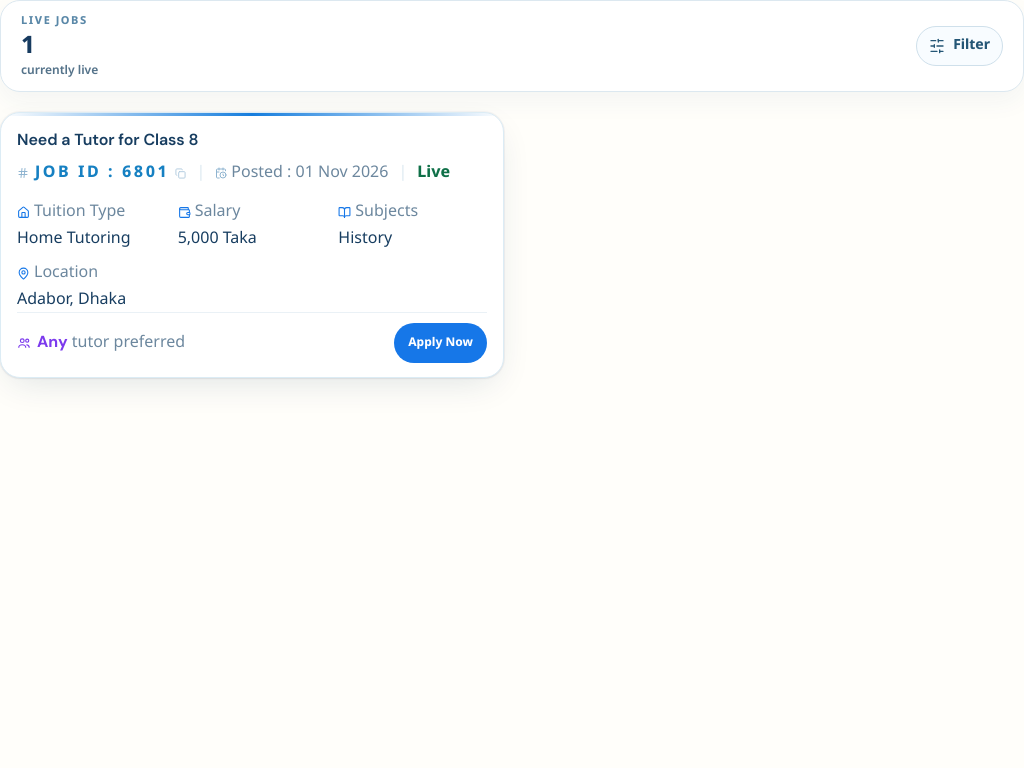
it: sharing a tuition from the Job Board › keeps share button off the primary job card, and exposes it in the details dialog
# Opening details displays the Share button
Click the button with aria-label "Job ID 6801".
click(252, 245)  # box top-left (0, 112), bottom-right (504, 378)
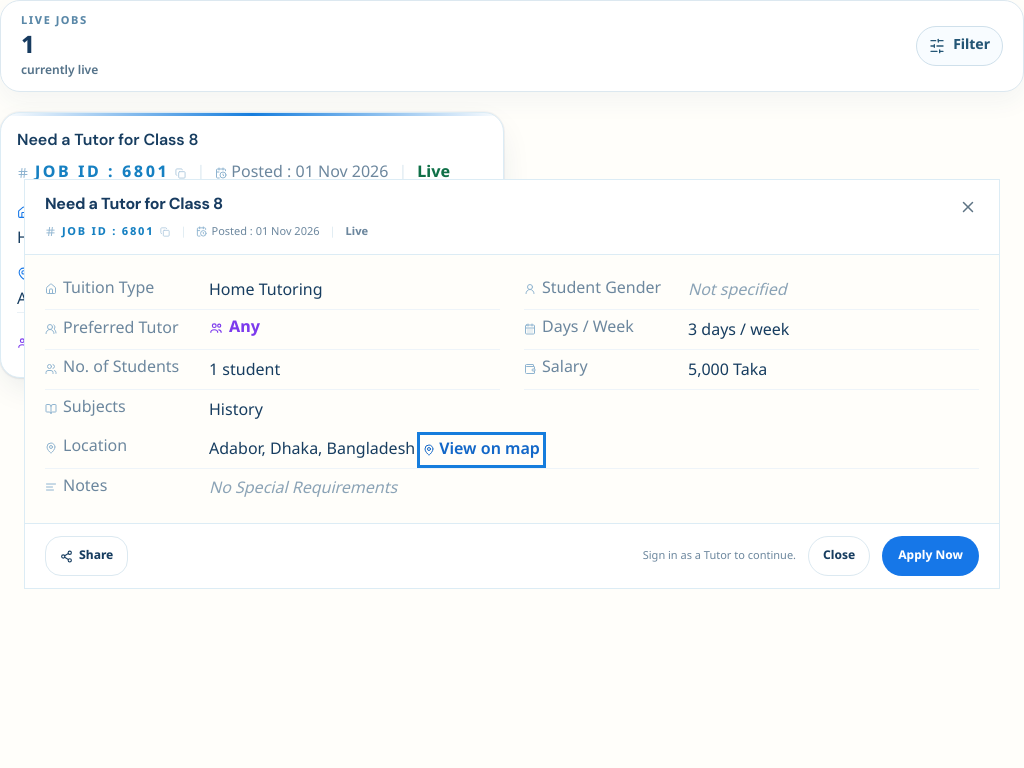
Now the button with aria-label "Share this tuition" is shown, box top-left (45, 536), bottom-right (128, 576)
